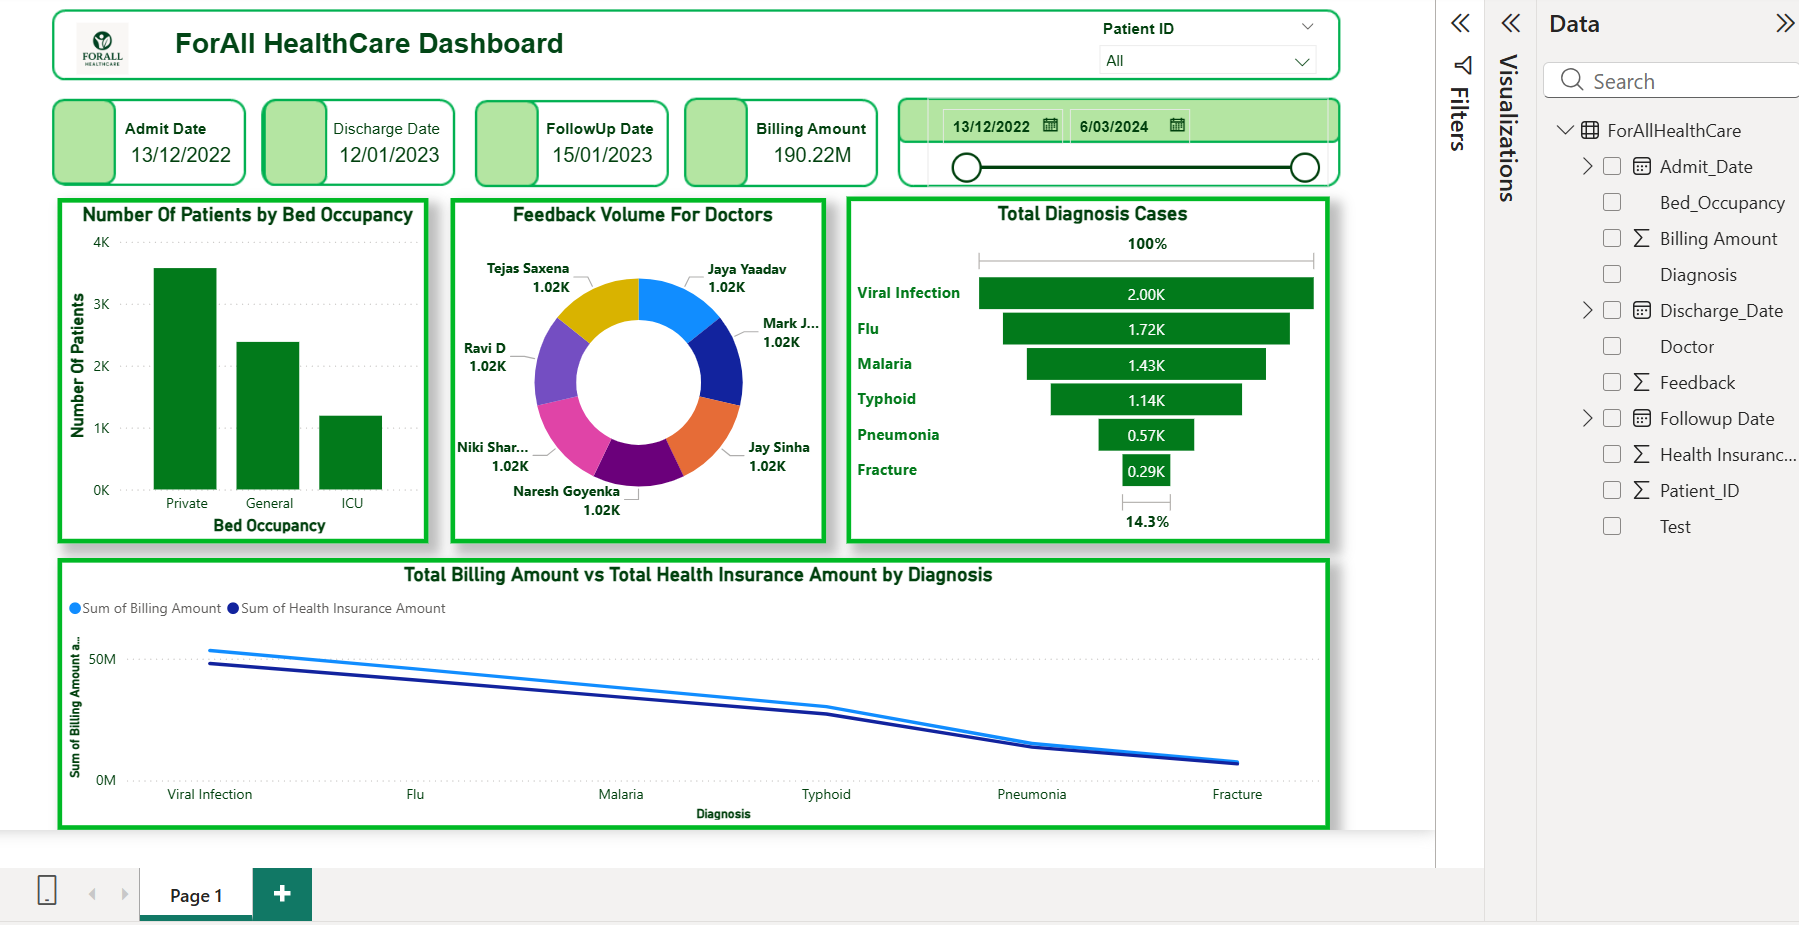

The page's visual inventory and layout, read from the dashboard file:
{"tool":"powerbi","page":{"name":"Page 1","canvas":[1280,720],"ordinal":0},"visuals":[{"type":"image","box":[103.4,19.1,59.6,55.1],"z":0},{"type":"textbox","box":[162.9,23.6,400,42.7],"z":1000},{"type":"slicer","fields":{"Values":["ForAllHealthCare (2).Patient_ID"]},"box":[981.6,17.2,206.9,54],"z":2000},{"type":"card","title":"Admit Date","fields":{"Values":["Min(ForAllHealthCare (2).Admit_Date)"]},"box":[147.1,108,105.7,48.3],"z":3000},{"type":"card","title":"Discharge Date","fields":{"Values":["Min(ForAllHealthCare (2).Discharge_Date)"]},"box":[326.4,108,105.7,48.3],"z":4000},{"type":"card","title":"FollowUp Date","fields":{"Values":["Min(ForAllHealthCare (2).Followup Date)"]},"box":[510.3,108,105.7,48.3],"z":5000},{"type":"card","title":"Billing Amount","fields":{"Values":["Sum(ForAllHealthCare (2).Billing Amount)"]},"box":[690.8,108,105.7,48.3],"z":6000},{"type":"columnChart","title":"Number Of  Patients by Bed Occupancy","fields":{"Category":["ForAllHealthCare (2).Bed_Occupancy"],"Y":["CountNonNull(ForAllHealthCare (2).Patient_ID)"]},"box":[93.9,175.6,319.5,297.6],"z":7000},{"type":"slicer","fields":{"Values":["ForAllHealthCare (2).Admit_Date"]},"box":[842.5,88.5,346,78.2],"z":8000},{"type":"donutChart","title":"Feedback Volume For Doctors","fields":{"Category":["ForAllHealthCare.Doctor"],"Y":["CountNonNull(ForAllHealthCare.Doctor)"]},"box":[432.9,175.6,323.2,297.6],"z":9000},{"type":"funnel","title":"Total Diagnosis Cases","fields":{"Y":["CountNonNull(ForAllHealthCare.Diagnosis)"],"Category":["ForAllHealthCare.Diagnosis"]},"box":[773.2,174.4,415.9,298.8],"z":10000},{"type":"lineChart","title":"Total Billing Amount vs Total Health Insurance Amount by Diagnosis","fields":{"Y":["Sum(ForAllHealthCare.Billing Amount)","Sum(ForAllHealthCare.Health Insurance Amount)"],"Category":["ForAllHealthCare.Diagnosis"]},"box":[93.9,485.4,1095.1,234.1],"z":11000}]}

Visuals, with their boxes on the page's 1280x720 design canvas (x1, y1, x2, y2). These are canvas units, not pixel positions in the 1799x925 screenshot, which may show the page scaled, cropped or inside an application window:
image: left=103, top=19, right=163, bottom=74
textbox: left=163, top=24, right=563, bottom=66
slicer - ForAllHealthCare (2).Patient_ID: left=982, top=17, right=1188, bottom=71
"Admit Date" card: left=147, top=108, right=253, bottom=156
"Discharge Date" card: left=326, top=108, right=432, bottom=156
"FollowUp Date" card: left=510, top=108, right=616, bottom=156
"Billing Amount" card: left=691, top=108, right=796, bottom=156
"Number Of  Patients by Bed Occupancy" columnChart: left=94, top=176, right=413, bottom=473
slicer - ForAllHealthCare (2).Admit_Date: left=842, top=88, right=1188, bottom=167
"Feedback Volume For Doctors" donutChart: left=433, top=176, right=756, bottom=473
"Total Diagnosis Cases" funnel: left=773, top=174, right=1189, bottom=473
"Total Billing Amount vs Total Health Insurance Amount by Diagnosis" lineChart: left=94, top=485, right=1189, bottom=720
